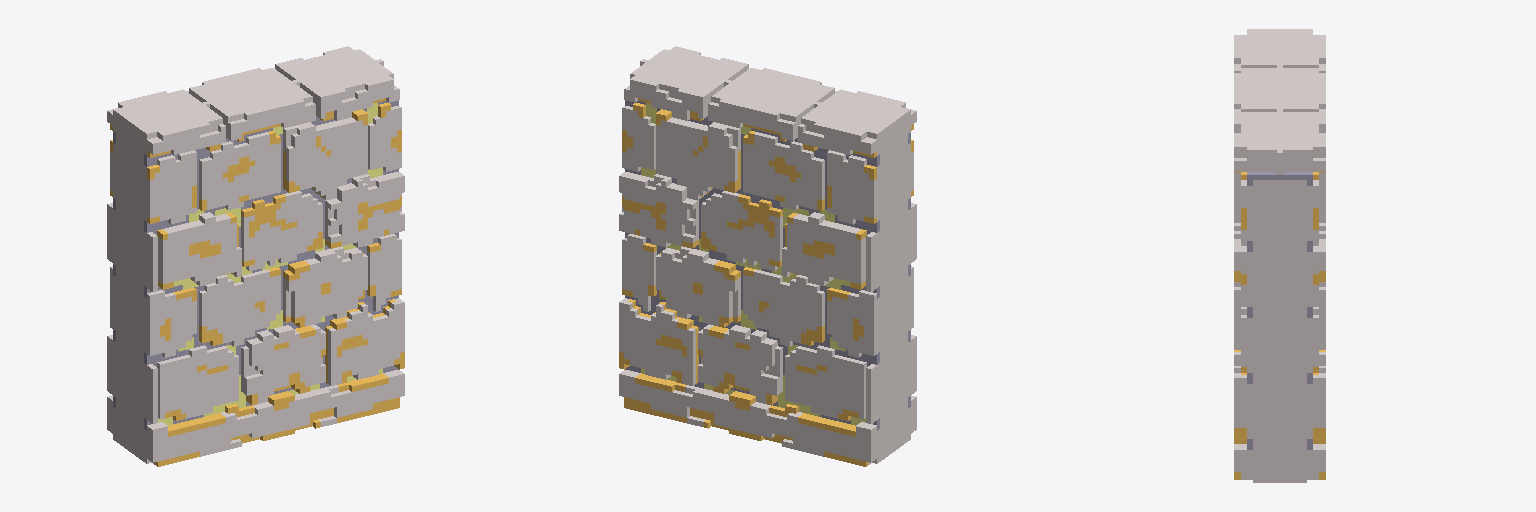
3 views of the same model, side by side, from view 1: azimuth 30°, elevation 25°; view 2: azimuth 150°, elevation 25°; view 3: azimuth 270°, elevation 25° (orthographic).
Visible parts, largest first — view 1: object 1; view 2: object 1; view 3: object 1.
Boxes of the visible parts, box(x1,y1,x2,y2) form: object 1: box(107, 46, 404, 466); object 1: box(619, 46, 916, 466); object 1: box(1234, 29, 1325, 482).
Bounding box in the file's own units: 4.8 × 6 × 1.5.
Materials: 1 (1 with a texture image).